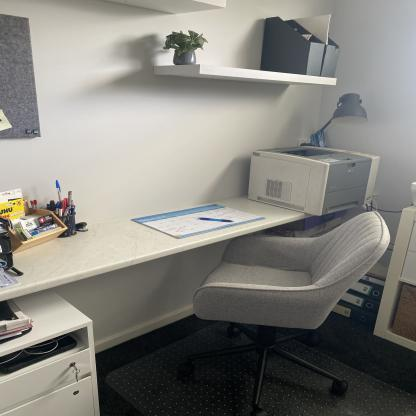chair: (187, 203, 399, 416)
light: (271, 92, 374, 160)
table: (0, 147, 376, 312)
